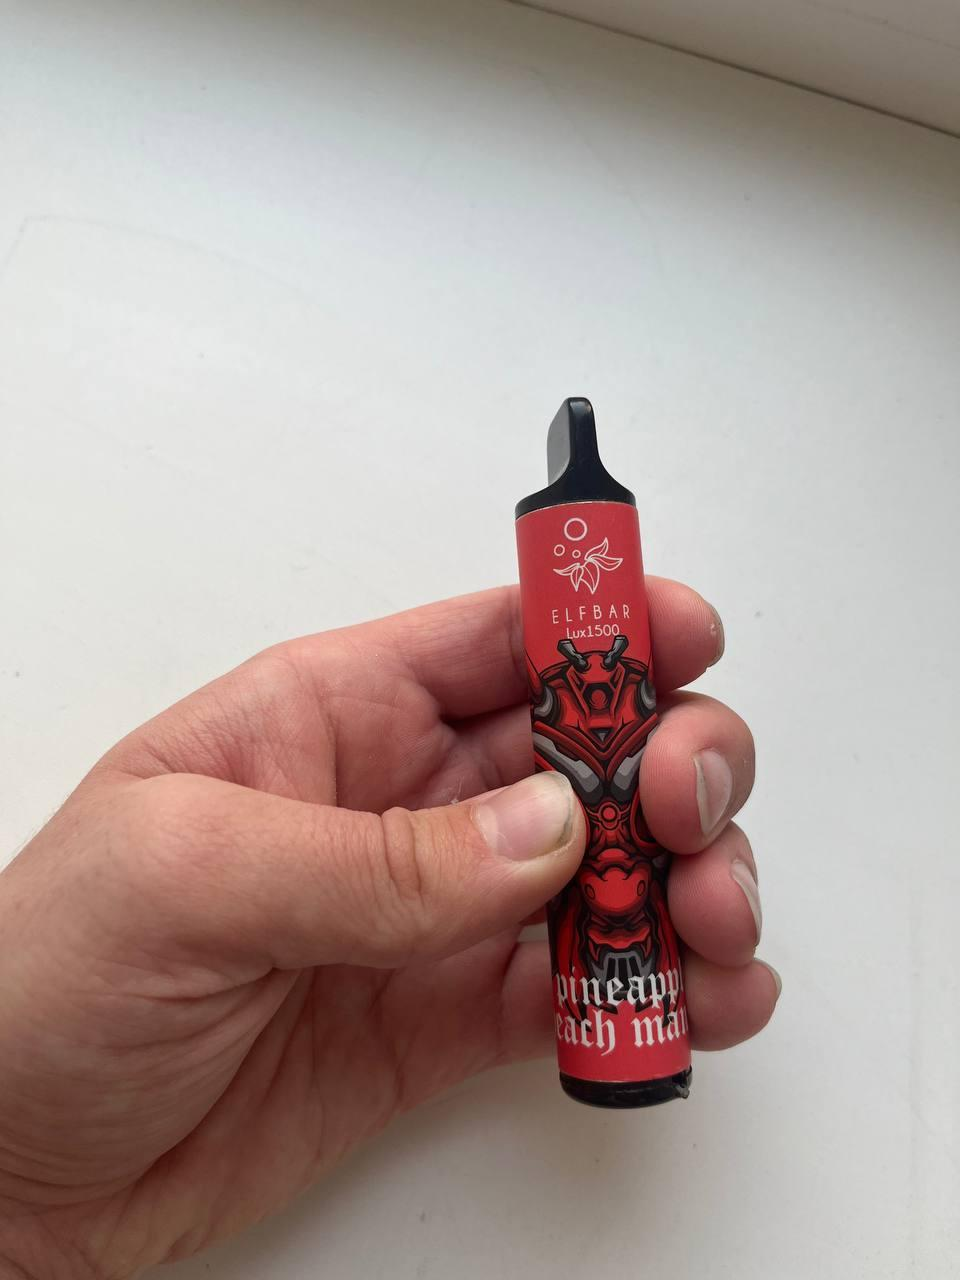Vape: (515, 398, 690, 1107)
